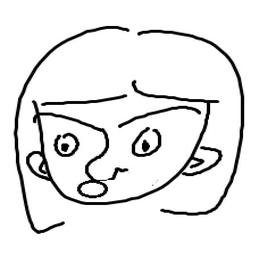ear: (181, 137, 225, 183), (23, 149, 51, 182)
eye: (130, 124, 168, 160), (51, 132, 82, 159)
frowning_eyebrow: (115, 104, 202, 126), (28, 111, 102, 133)
large_nose: (83, 130, 129, 182)
open_mouth: (76, 177, 109, 199)
